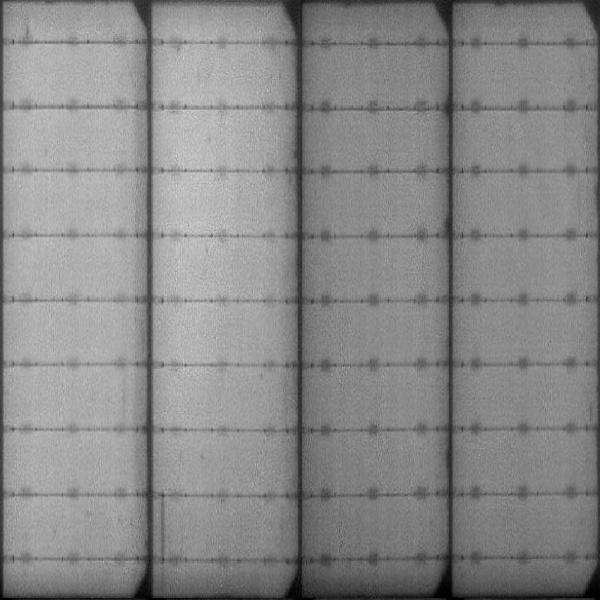scratch: (157, 493, 171, 564)
